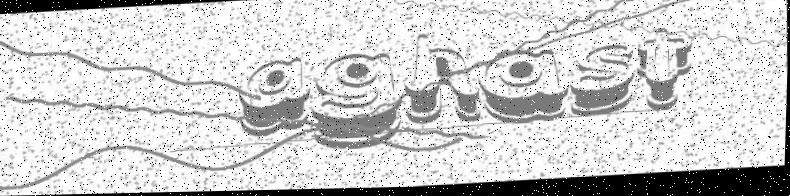a: (476, 48, 573, 130), (236, 57, 315, 139)
g: (309, 52, 407, 154)
h: (402, 31, 484, 129)
s: (570, 44, 639, 120)
t: (634, 28, 697, 116)
